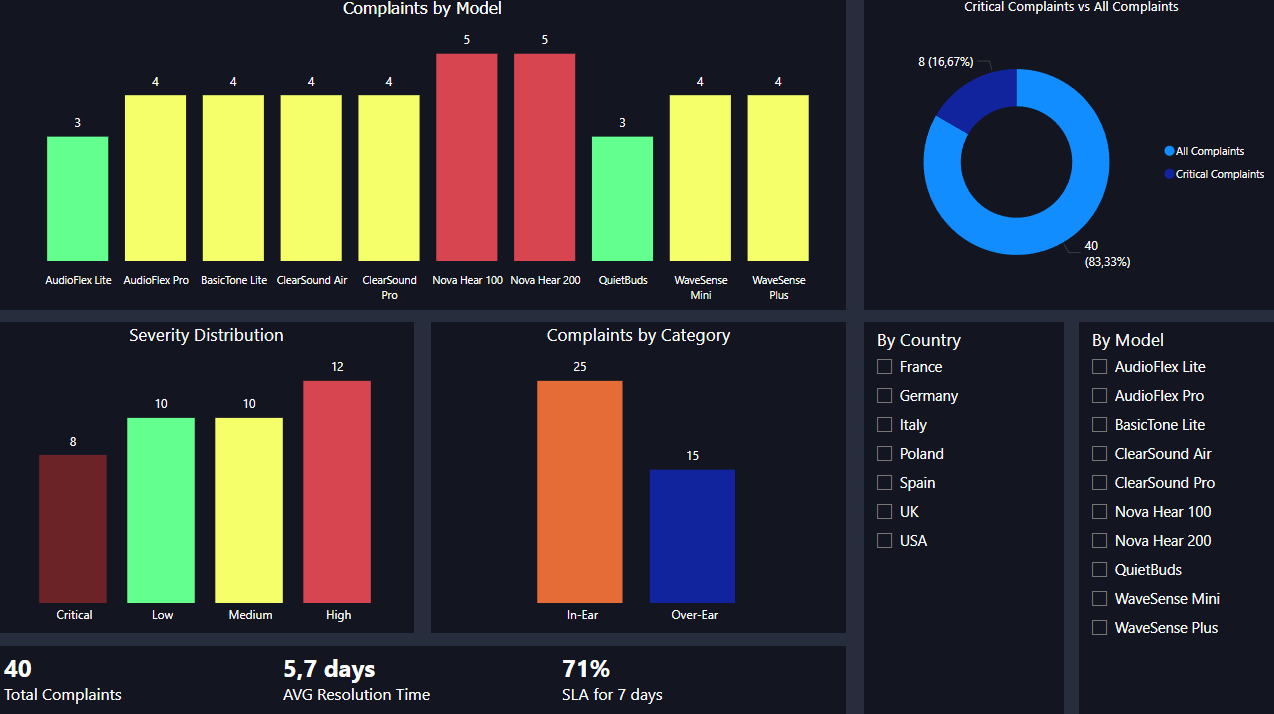

The dashboard page shown, as its layout file describes it:
{"tool":"powerbi","page":{"name":"Overview","canvas":[1280,720],"ordinal":0},"visuals":[{"type":"lineClusteredColumnComboChart","fields":{"Category":["Customers.Country","Devices.ModelName"],"Y":["Complaints.Total Complaints"]},"box":[0,0,847,313],"z":0},{"type":"donutChart","title":"Critical Complaints vs All Complaints","fields":{"Y":["CountNonNull(Complaints.ComplaintId)","Complaints.Critical Complaints"]},"box":[865,0,415,313],"z":1000},{"type":"multiRowCard","fields":{"Values":["Complaints.Total Complaints","Complaints.Avg Resolution Time(Closed)","Complaints.SLA for 7 days"]},"box":[0,649,847,71],"z":2000},{"type":"clusteredColumnChart","title":"Severity Distribution","fields":{"Category":["Complaints.Severity"],"Y":["Complaints.Total Complaints"]},"box":[0,325,415,311],"z":3000},{"type":"clusteredColumnChart","fields":{"Category":["Devices.Category"],"Y":["Complaints.Total Complaints"]},"box":[432,325,415,311],"z":4000},{"type":"slicer","fields":{"Values":["Devices.ModelName"]},"box":[1080,325,200,395],"z":5000},{"type":"slicer","fields":{"Values":["Customers.Country"]},"box":[865,325,200,395],"z":6000}]}

Visuals, with their boxes in screenshot pixels (x1, y1, x2, y2), scaled from the page's 1280x720 canvas onto the 1274x714 screenshot:
lineClusteredColumnComboChart - Customers.Country x Devices.ModelName: 0 0 843 310
"Critical Complaints vs All Complaints" donutChart: 861 0 1273 310
multiRowCard - Complaints.Total Complaints x Complaints.Avg Resolution Time(Closed): 0 644 843 713
"Severity Distribution" clusteredColumnChart: 0 322 413 631
clusteredColumnChart - Devices.Category x Complaints.Total Complaints: 430 322 843 631
slicer - Devices.ModelName: 1075 322 1273 713
slicer - Customers.Country: 861 322 1060 713
